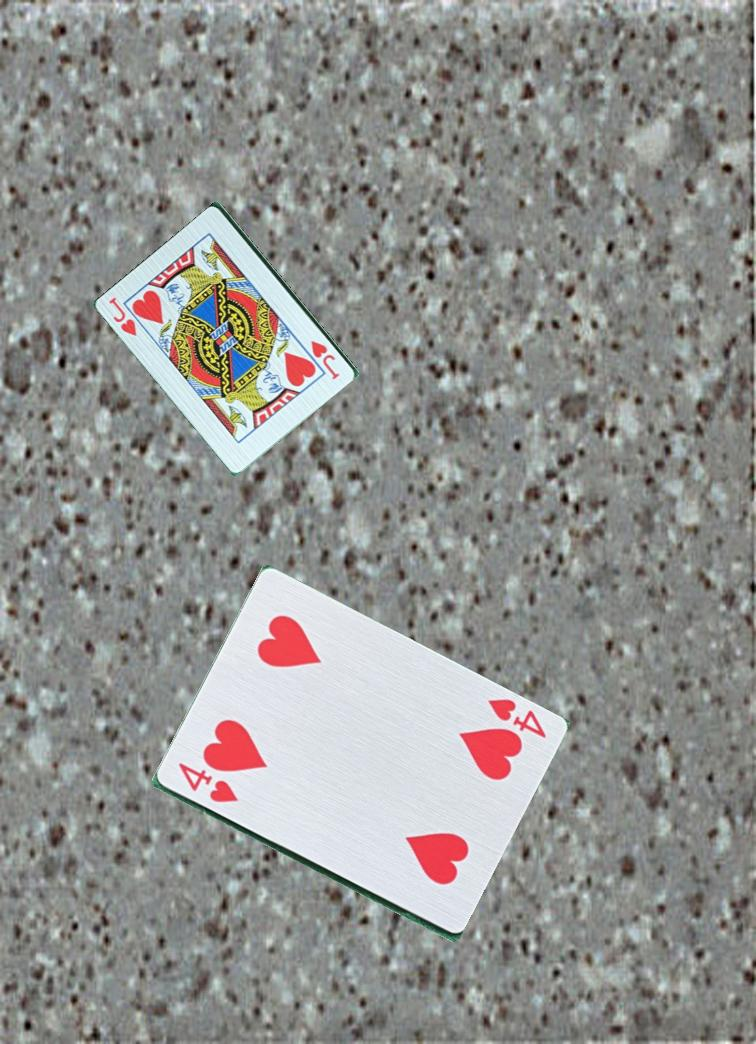4h: (471, 693, 551, 751), (174, 759, 241, 806)
jh: (307, 337, 343, 382), (105, 294, 141, 339)
